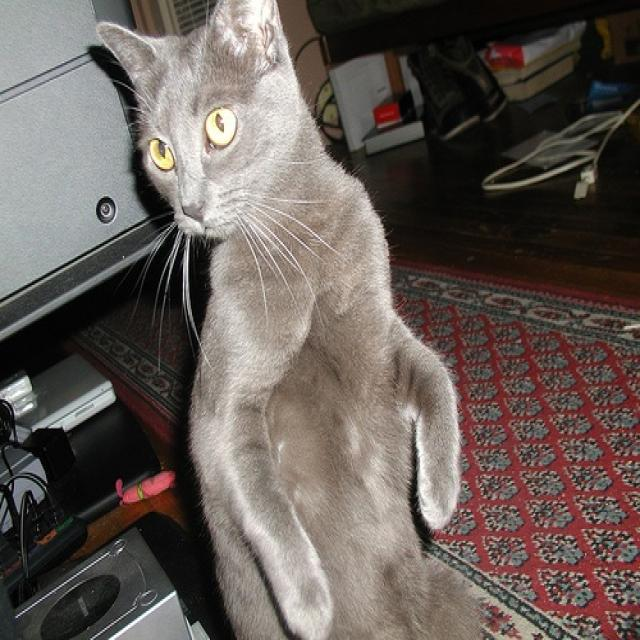cat: (96, 2, 486, 638)
